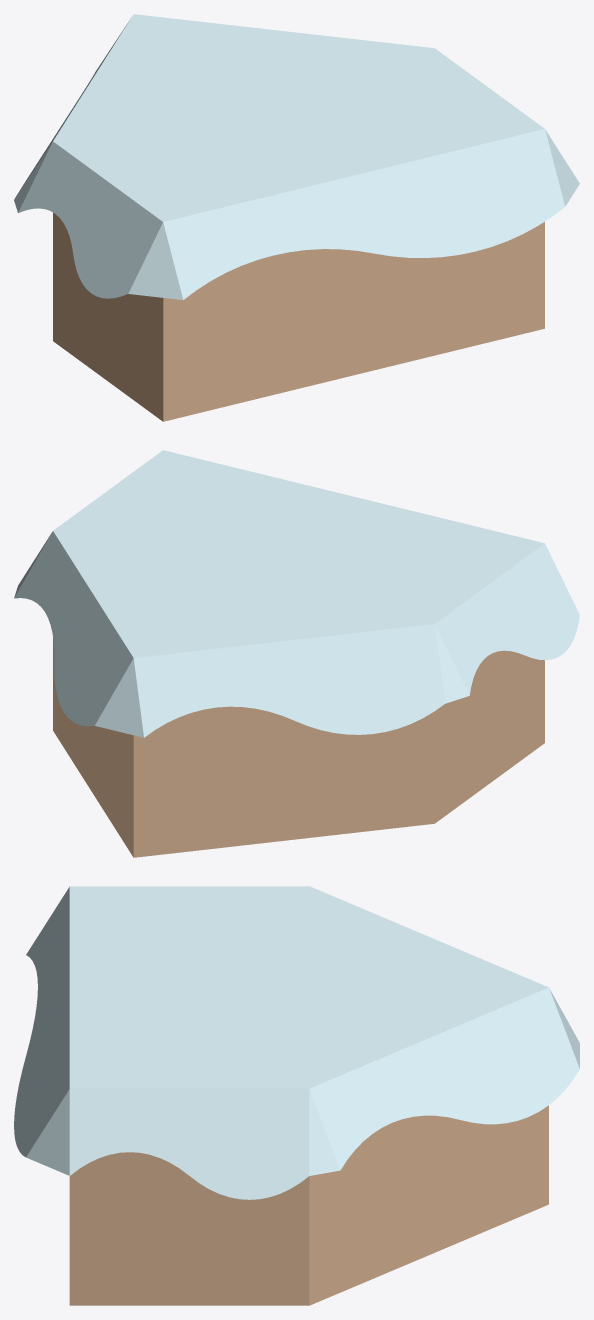
File: blockSnowEnd.glb
3 views of the same model, one above another, from view 1: azimuth 30°, elevation 25°; view 2: azimuth 150°, elevation 25°; view 3: azimuth 270°, elevation 25° (orthographic). The views are drawn at different scales.
Parts seen in each view (by area): view 1: blockSnowEnd; view 2: blockSnowEnd; view 3: blockSnowEnd.
Boxes of the visible parts, x1,y1,x2,y2 form: blockSnowEnd: (14, 14, 579, 421); blockSnowEnd: (14, 450, 579, 857); blockSnowEnd: (14, 886, 579, 1305).
Size of the model in its own units: 1.23 by 0.5 by 1.18.
